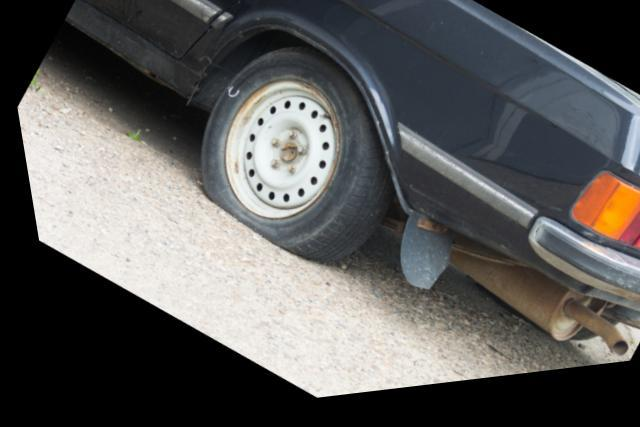tire flat: (195, 47, 385, 272)
